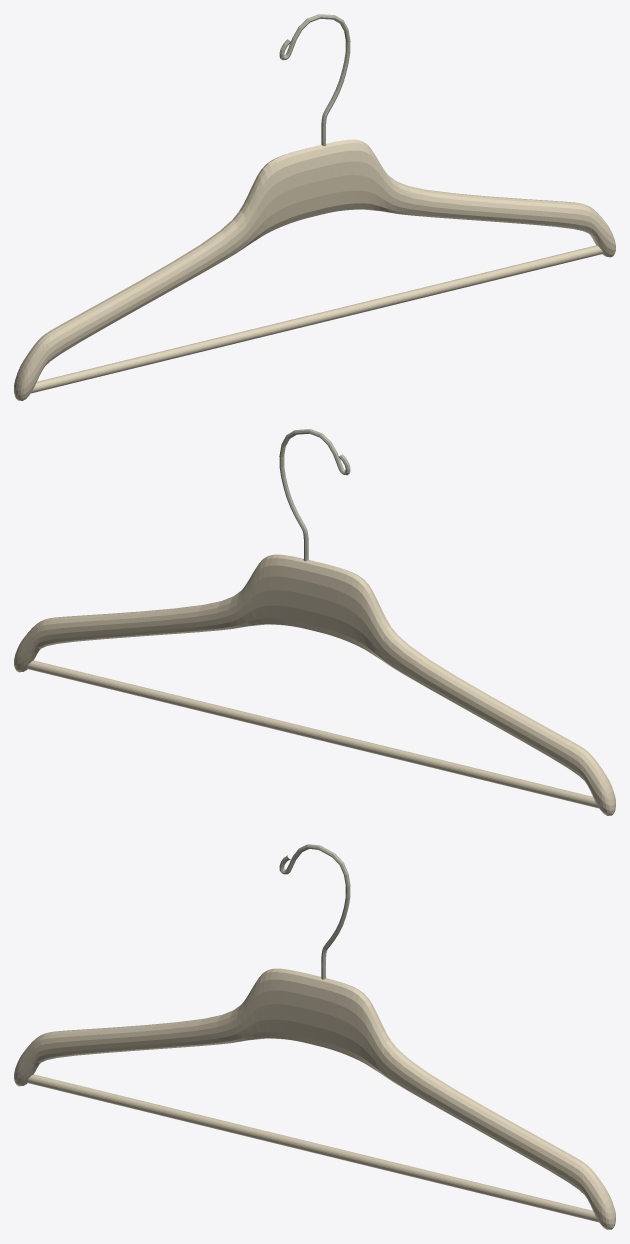
The model's file is sweethome3d-katorlegaz-clothes-hanger.glb.
3 views of the same model, one above another, from view 1: azimuth 30°, elevation 25°; view 2: azimuth 150°, elevation 25°; view 3: azimuth 330°, elevation 25° (orthographic).
Visible parts, largest first — view 1: Wooden_hanger, Hanger_hook; view 2: Wooden_hanger, Hanger_hook; view 3: Wooden_hanger, Hanger_hook.
Part boxes in pixels (x1,y1,x2,y2): Wooden_hanger: (14,139,615,400); Hanger_hook: (279,14,350,146); Wooden_hanger: (14,554,615,815); Hanger_hook: (279,429,350,561); Wooden_hanger: (14,968,615,1229); Hanger_hook: (279,844,350,979).
Size of the model in its own units: 4.74 by 2.37 by 0.1405.
